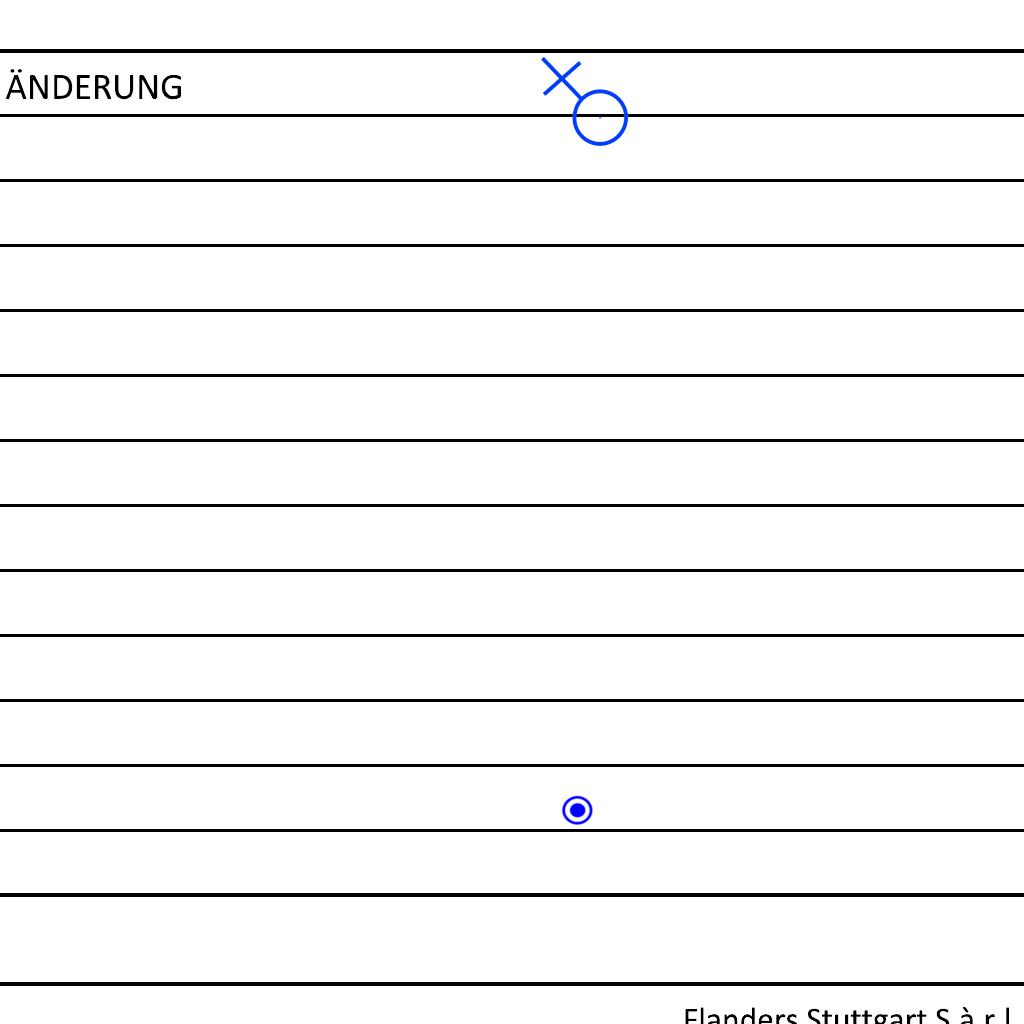Elektroanschluss_allgemein_230V_Geraeteanschlussdose_230V: (536, 56, 630, 155)
Taster: (561, 795, 594, 828)
